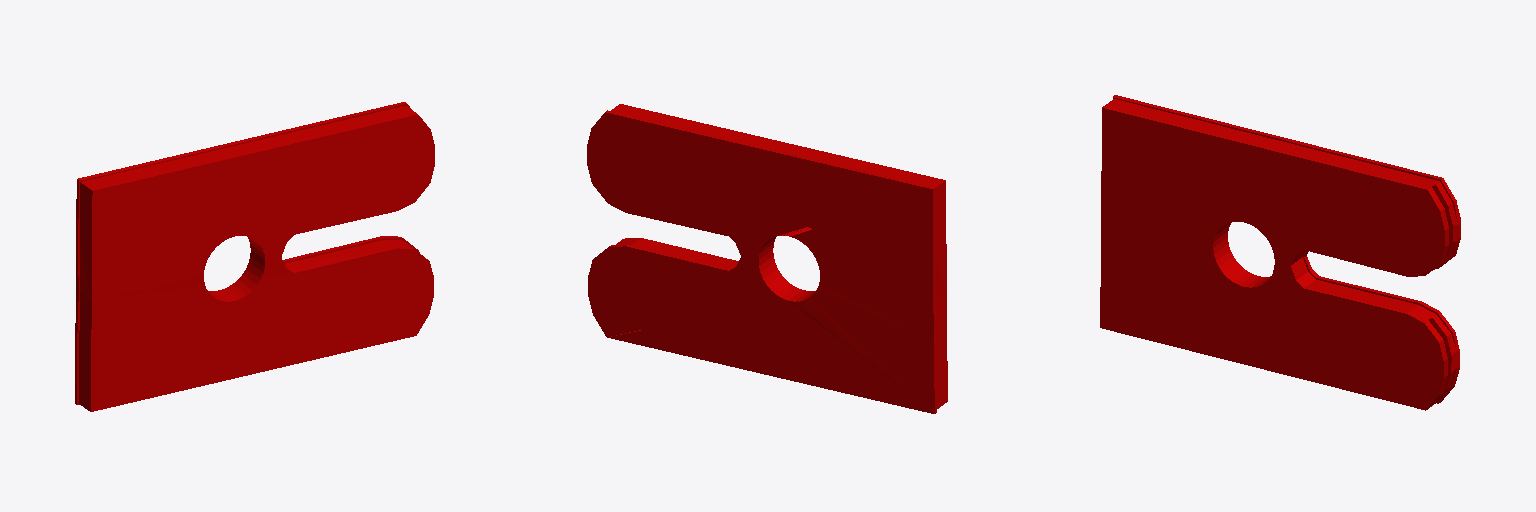
File: lower_hull.obj
The picture shows the model from 3 angles: view 1: azimuth 30°, elevation 25°; view 2: azimuth 150°, elevation 25°; view 3: azimuth 330°, elevation 25°; orthographic projection.
Parts seen in each view (by area): view 1: lower_hull_obj11.001; view 2: lower_hull_obj11.001; view 3: lower_hull_obj11.001.
Part boxes in pixels (bbox=[...]): lower_hull_obj11.001: bbox=[75, 102, 434, 411]; lower_hull_obj11.001: bbox=[587, 104, 947, 413]; lower_hull_obj11.001: bbox=[1100, 95, 1460, 410].
Size of the model in its own units: 0.601 by 0.3759 by 0.044.